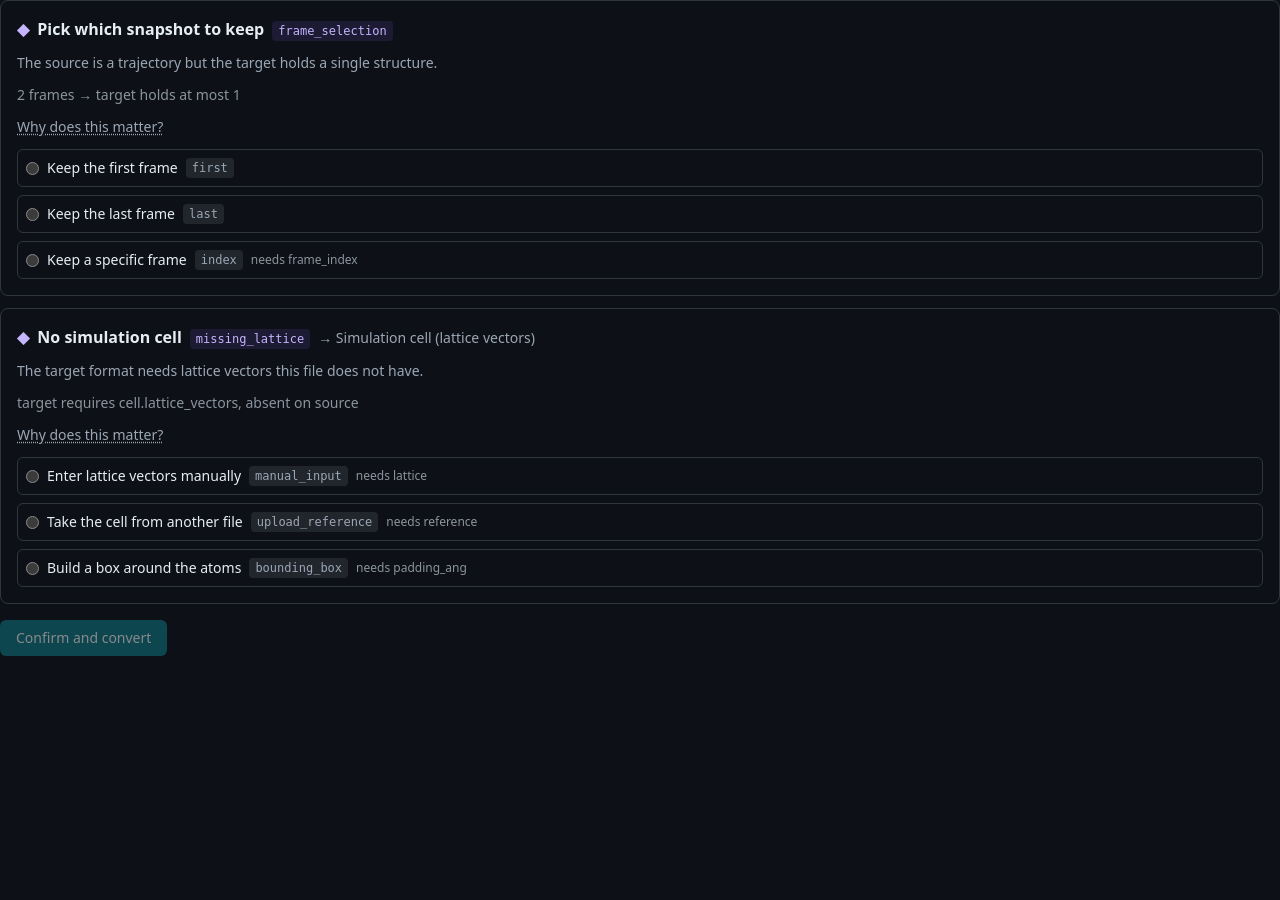
it: RecoveryWizard › previews the exact Assumption sentences once the decisions are complete
Click the radio button labelled "Keep the last frame last" at (32, 214), box [26,208,39,220]
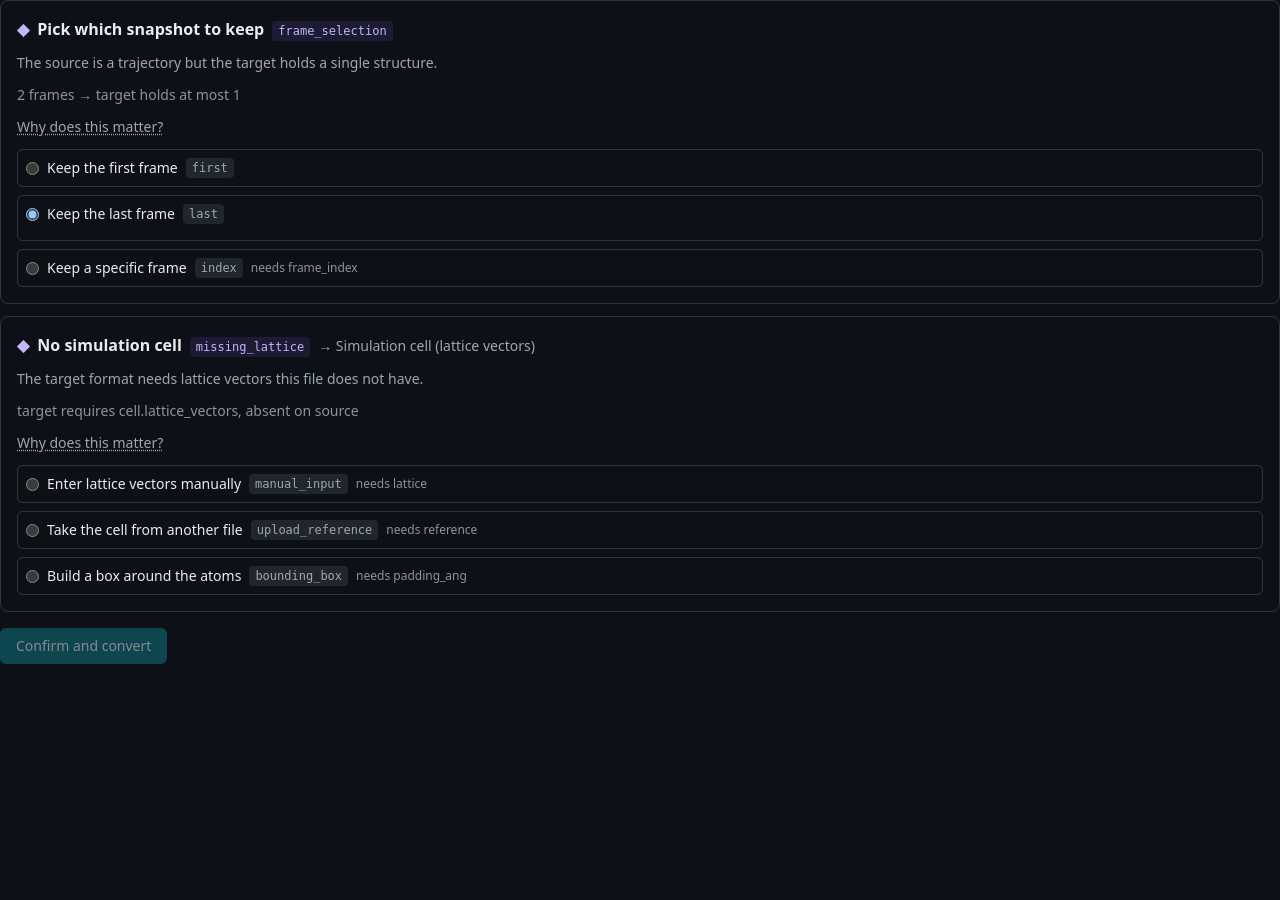
Click the radio button labelled "Build a box around the atoms bounding_box" at (32, 576), box [26,570,39,582]
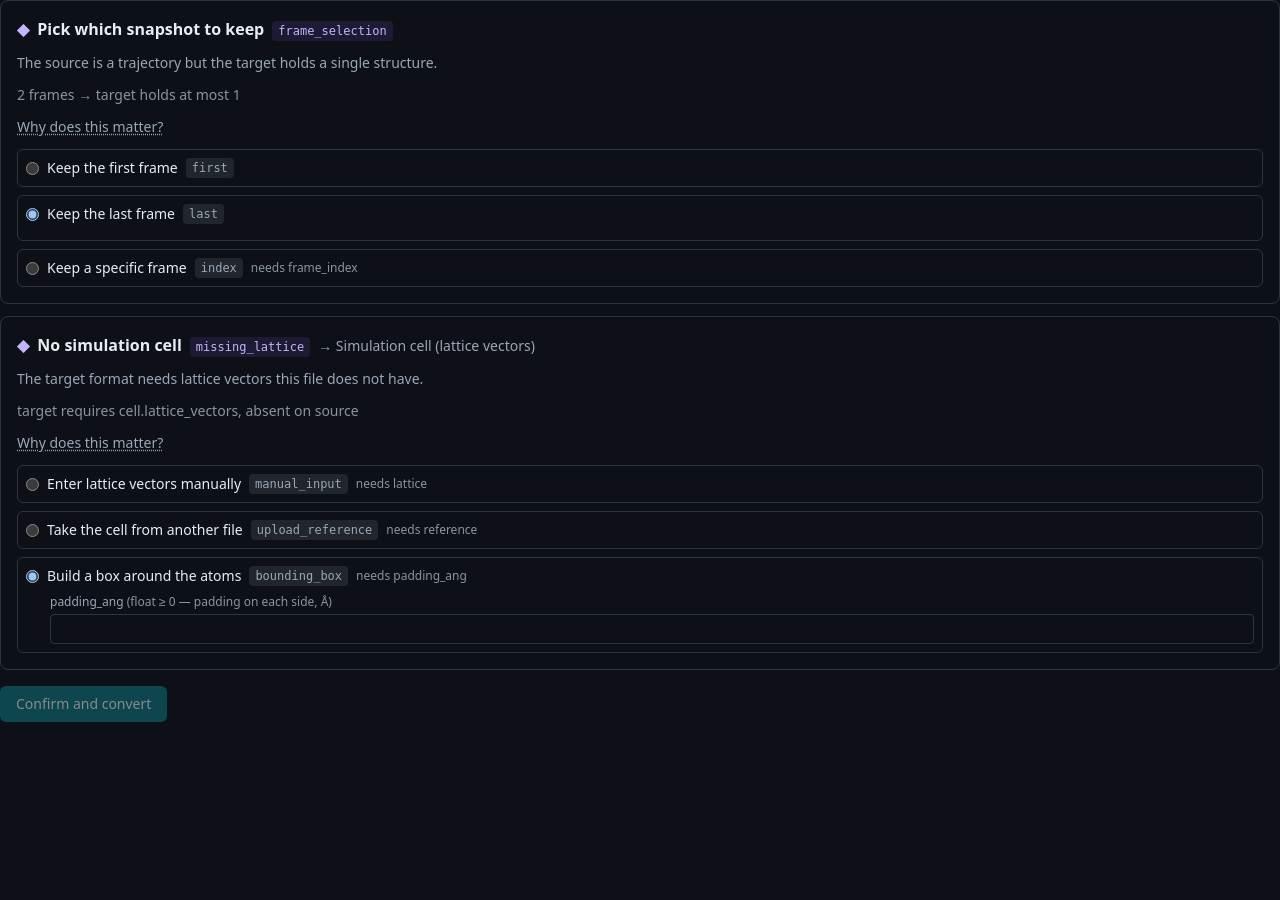
Type "5" into the number field labelled "padding_ang (float ≥ 0 — padding on each side, Å)" at (652, 629), box [50,614,1254,644]
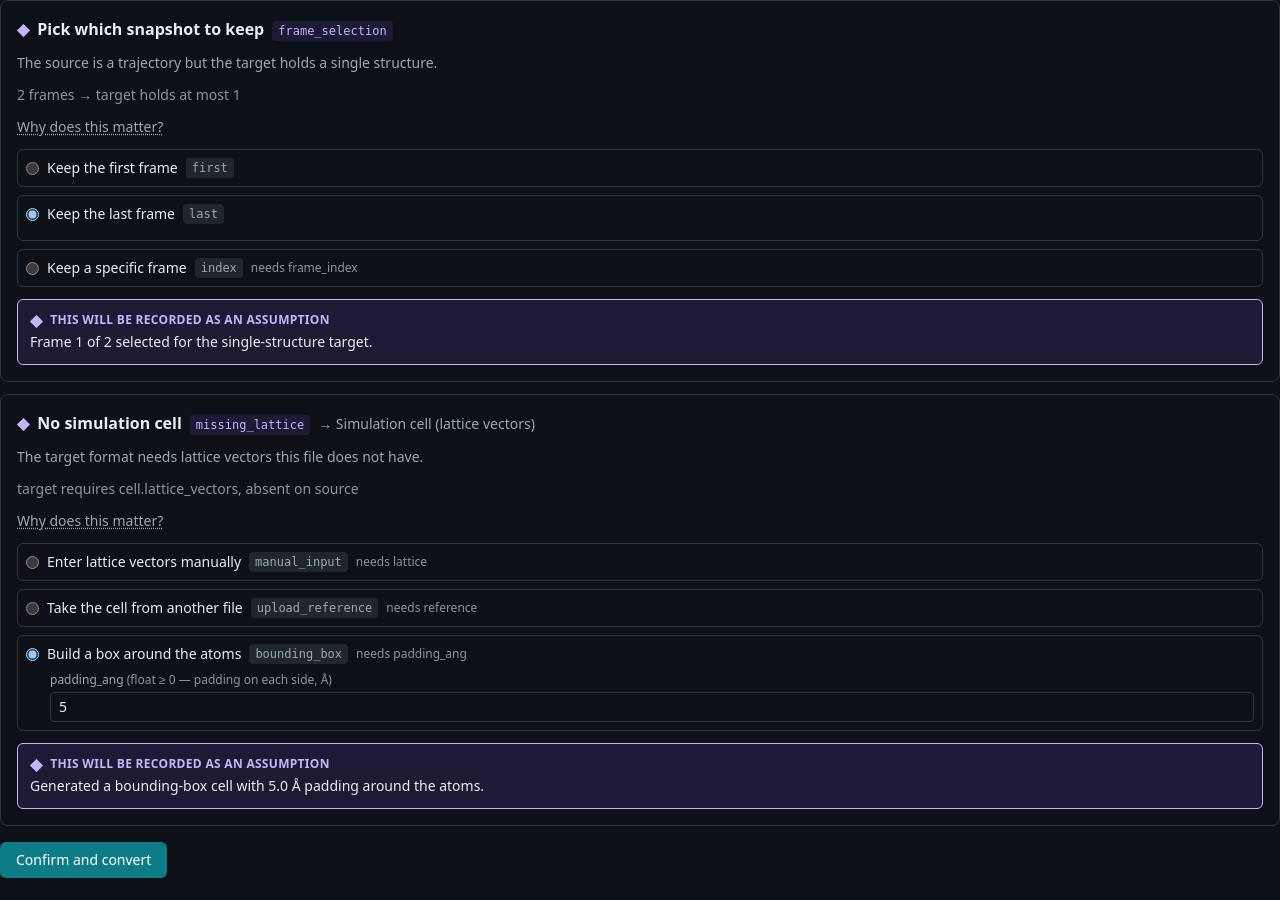
Expected: the text "Generated a bounding-box cell with 5.0 Å padding around the atoms." is shown, [30,776,484,795]
Expected: the text "Frame 1 of 2 selected for the single-structure target." is shown, [30,332,373,351]
Expected: the number of elements with test id "assumption-preview" is 2, [17,299,1263,365]; [17,743,1263,809]
